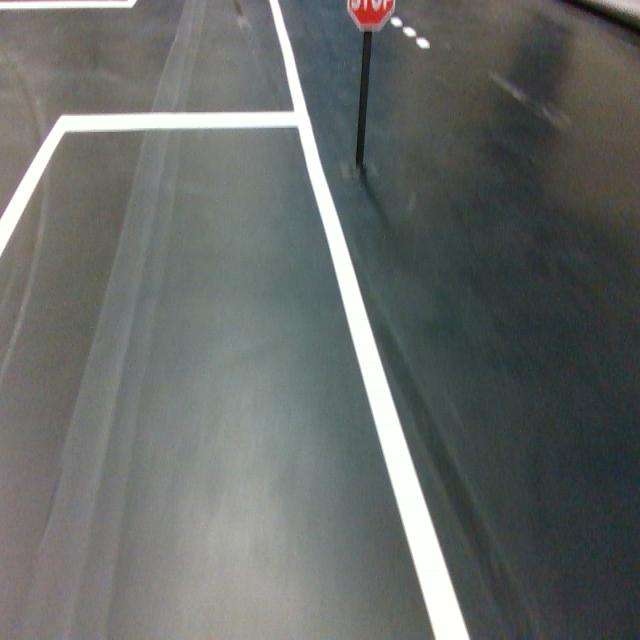stop-sign: (346, 0, 395, 32)
